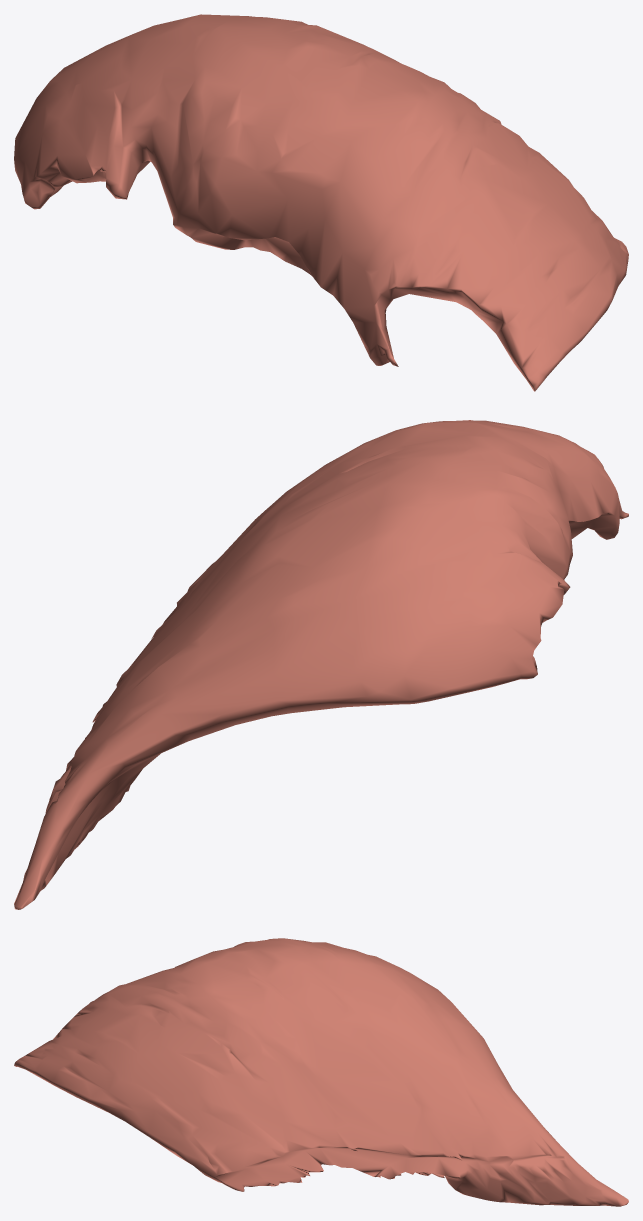
3 views of the same model, one above another, from view 1: azimuth 30°, elevation 25°; view 2: azimuth 150°, elevation 25°; view 3: azimuth 270°, elevation 25° (orthographic). The views are drawn at different scales.
Visible parts, largest first — view 1: 左侧臀大肌; view 2: 左侧臀大肌; view 3: 左侧臀大肌.
Part boxes in pixels (x1,y1,x2,y2): 左侧臀大肌: [14, 14, 628, 391]; 左侧臀大肌: [14, 420, 628, 909]; 左侧臀大肌: [14, 938, 628, 1206].
Size of the model in its own units: 0.2142 by 0.143 by 0.3971.
